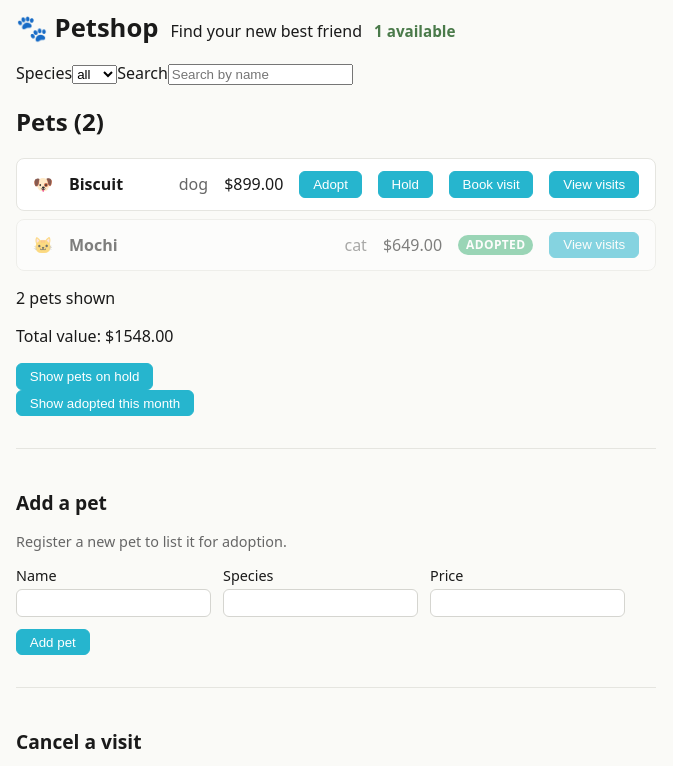
it: App › shows a pet's upcoming visits with start time and visitor name (no cancellation code)
Check: the text "Biscuit" is shown, box 69,173 -> 123,195
Click the button "View visits" in the row of "Biscuit".
click(594, 184)  # box 549,171 -> 639,198
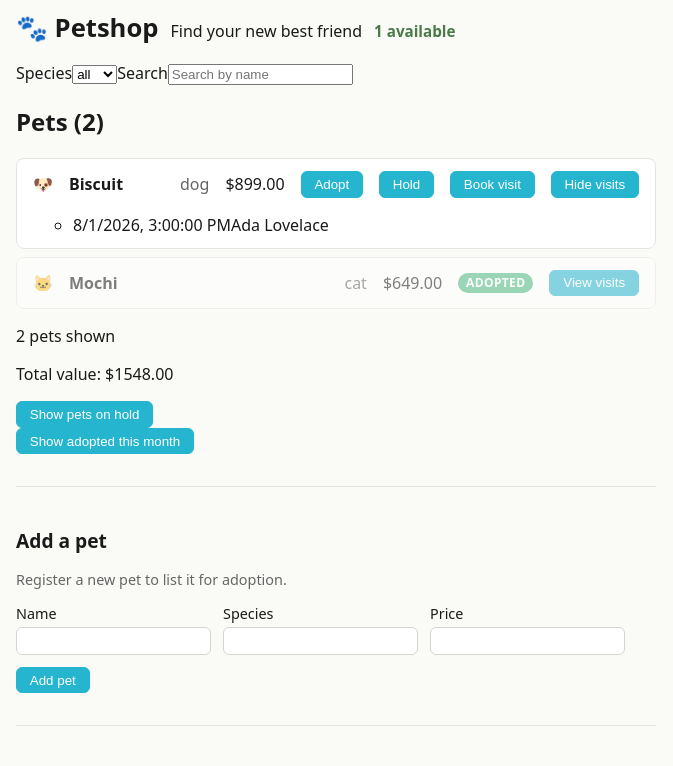
Check: the text "Ada Lovelace" is shown, box 231,214 -> 329,236
